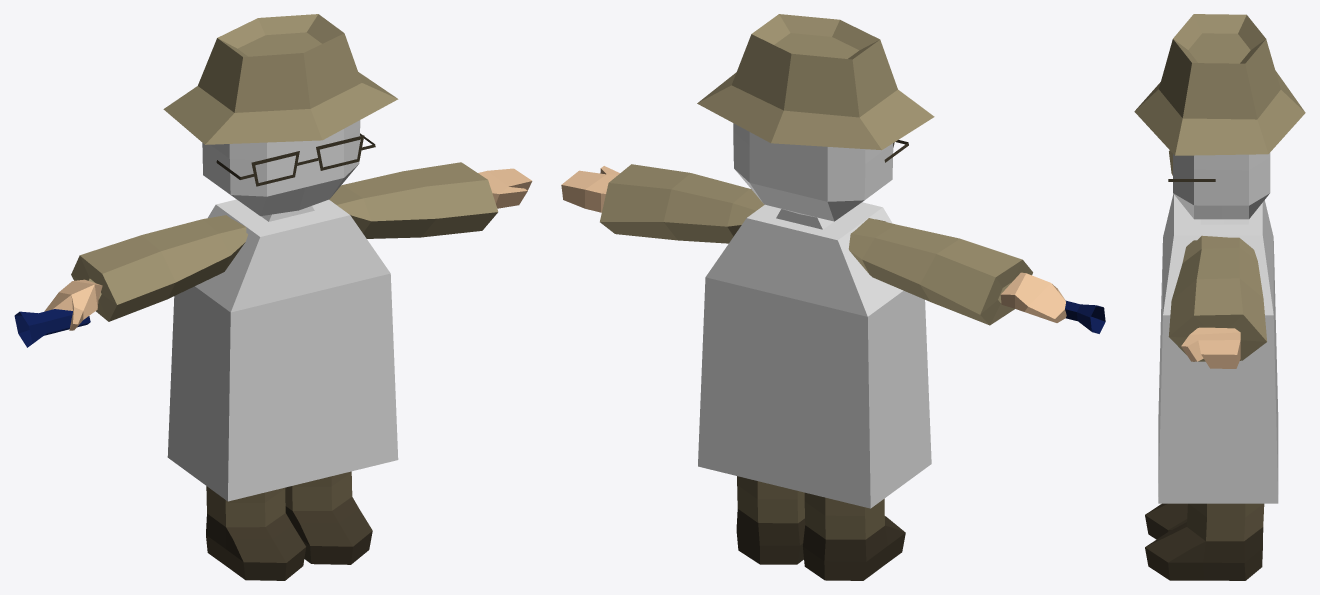
File: finished mc.fbx
The picture shows the model from 3 angles, left to right: view 1: azimuth 30°, elevation 25°; view 2: azimuth 150°, elevation 25°; view 3: azimuth 270°, elevation 25°; orthographic projection.
Visible parts, largest first — view 1: torso, hat, arm, leg, head, right hand, torch, left hand, glasses; view 2: torso, hat, arm, leg, head, right hand, left hand, torch; view 3: torso, hat, leg, arm, head, left hand.
Part boxes in pixels (x1,y1,x2,y2): torso: [167, 199, 398, 501]; hat: [163, 14, 398, 144]; arm: [71, 162, 498, 321]; leg: [206, 471, 372, 580]; head: [202, 120, 360, 221]; right hand: [44, 279, 102, 330]; torch: [14, 309, 90, 347]; left hand: [478, 168, 532, 208]; glasses: [216, 133, 375, 186]; torso: [698, 202, 931, 508]; hat: [697, 14, 934, 150]; arm: [600, 164, 1032, 325]; leg: [736, 476, 905, 580]; head: [733, 123, 893, 229]; right hand: [1000, 272, 1066, 322]; left hand: [561, 166, 619, 212]; torch: [1065, 300, 1105, 333]; torso: [1158, 194, 1278, 503]; hat: [1134, 14, 1305, 155]; leg: [1145, 503, 1264, 580]; arm: [1168, 150, 1267, 361]; head: [1173, 153, 1270, 224]; left hand: [1181, 327, 1240, 368].
Size of the model in its own units: 200 by 191 by 58.06.
